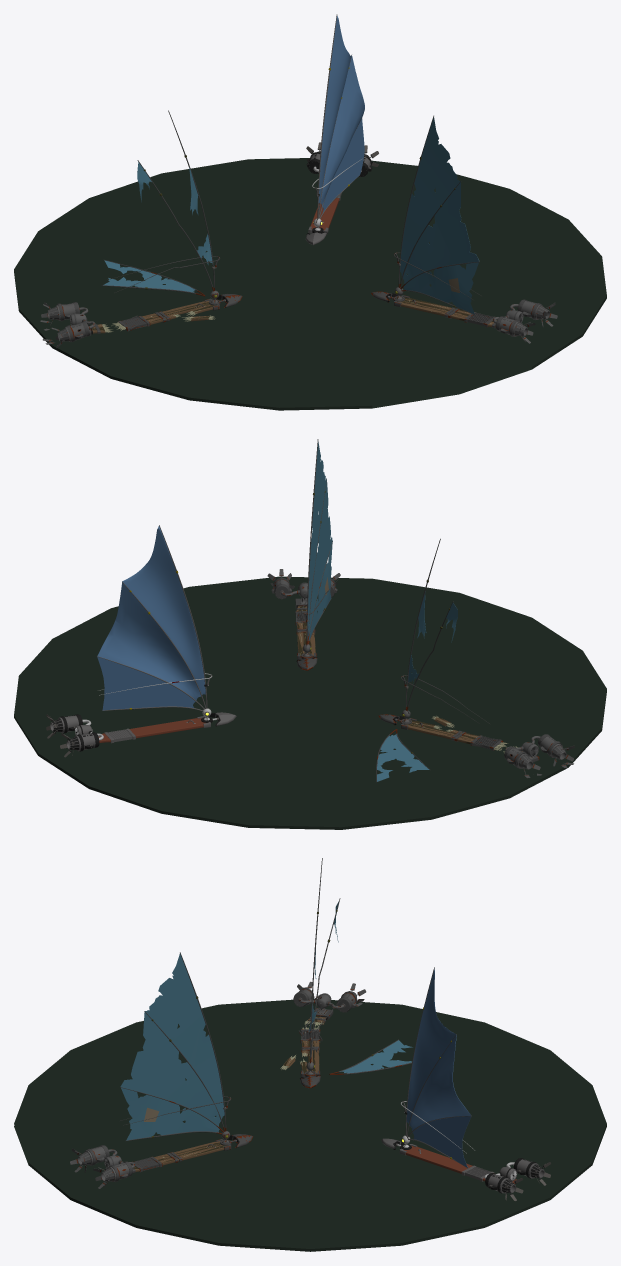
3 views of the same model, one above another, from view 1: azimuth 30°, elevation 25°; view 2: azimuth 150°, elevation 25°; view 3: azimuth 270°, elevation 25° (orthographic).
Parts seen in each view (by area): view 1: pCylinder77, pPlane6, pPlane5, pCube19, pPlane4, pCube18, polySurface500, pCube20, polySurface144, polySurface502, turb_speed; view 2: pCylinder77, pCube19, pCube18, pCube20, polySurface500, turb_speed, pPlane6, pPlane5, polySurface502, wood_desk, pPlane4, polySurface144; view 3: pCylinder77, pPlane6, pPlane5, pPlane4, pCube18, pCube19, pCube20, polySurface500, polySurface144, turb_speed, polySurface502, wood_desk.
Part boxes in pixels (<box>): pCylinder77: <box>14,158,606,410</box>; pPlane6: <box>400,117,460,276</box>; pPlane5: <box>403,182,479,283</box>; pCube19: <box>320,56,364,206</box>; pPlane4: <box>403,262,478,314</box>; pCube18: <box>318,16,351,203</box>; polySurface500: <box>40,302,113,348</box>; pCube20: <box>323,119,364,212</box>; polySurface144: <box>493,299,557,343</box>; polySurface502: <box>103,260,194,292</box>; turb_speed: <box>306,142,378,176</box>; pCylinder77: <box>14,576,606,829</box>; pCube19: <box>97,582,201,700</box>; pCube18: <box>122,526,205,695</box>; pCube20: <box>97,657,195,710</box>; polySurface500: <box>503,734,574,778</box>; turb_speed: <box>46,714,103,757</box>; pPlane6: <box>307,442,326,630</box>; pPlane5: <box>308,480,332,635</box>; polySurface502: <box>377,734,429,781</box>; wood_desk: <box>98,718,205,743</box>; pPlane4: <box>308,543,332,640</box>; polySurface144: <box>267,569,340,599</box>; pCylinder77: <box>14,998,606,1251</box>; pPlane6: <box>145,953,224,1118</box>; pPlane5: <box>120,1012,220,1126</box>; pPlane4: <box>121,1088,219,1140</box>; pCube18: <box>406,968,456,1123</box>; pCube19: <box>409,1035,471,1130</box>; pCube20: <box>412,1116,471,1167</box>; polySurface500: <box>293,981,366,1026</box>; polySurface144: <box>70,1145,135,1188</box>; turb_speed: <box>484,1158,550,1201</box>; polySurface502: <box>340,1040,412,1073</box>; wood_desk: <box>403,1145,516,1183</box>.
Bounding box in the file's own units: 33.8 × 12.6 × 33.43.
